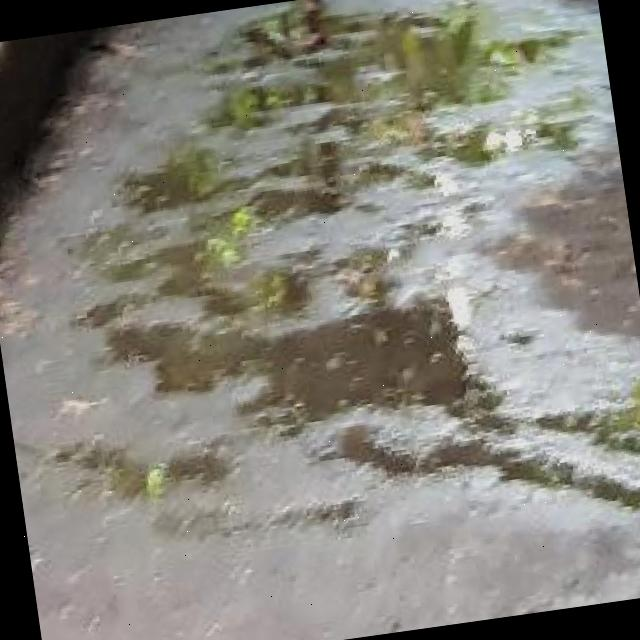waterlogging: (154, 0, 598, 251), (86, 262, 518, 484)
